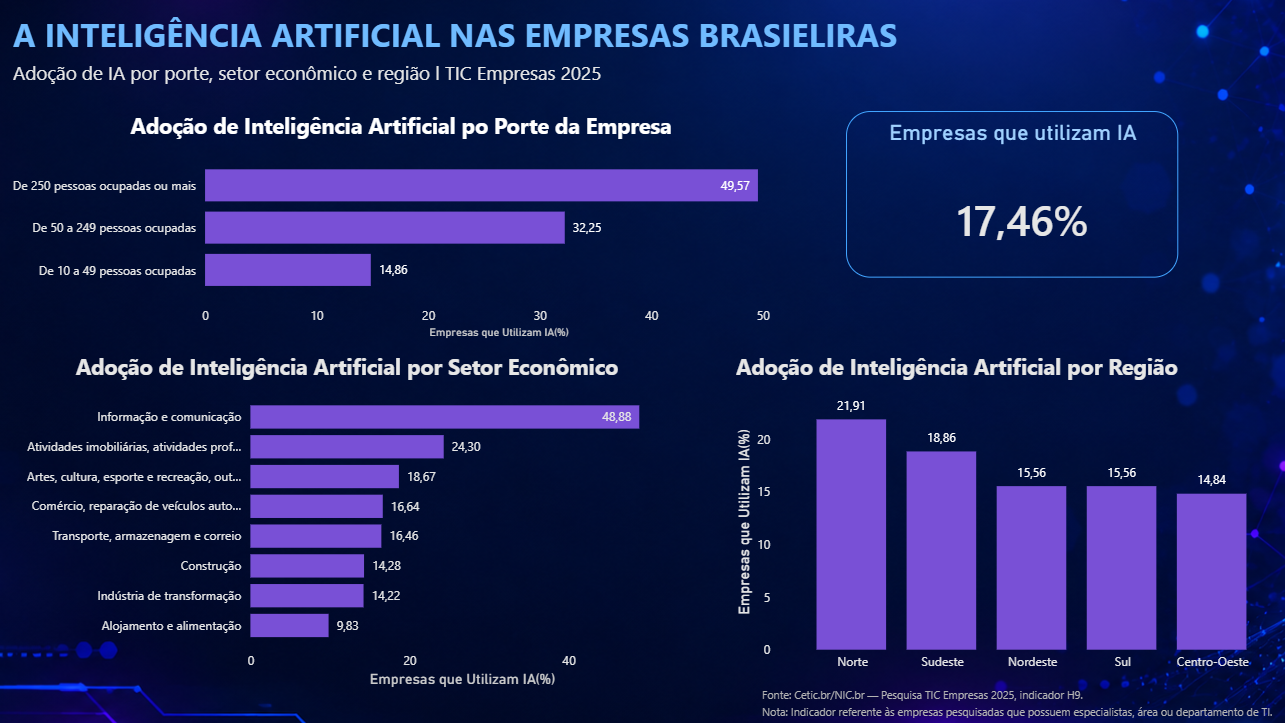

The dashboard page shown, as its layout file describes it:
{"tool":"powerbi","page":{"name":"Adoção de IA","canvas":[1280,720],"ordinal":0},"visuals":[{"type":"textbox","box":[10.9,6.9,965.3,65.3],"z":0,"group":"g1"},{"type":"clusteredBarChart","title":"Adoção de Inteligência Artificial po Porte da Empresa","fields":{"Category":["Adocao_IA_2025.Grupo"],"Y":["Max(Adocao_IA_2025.Utiliza_IA)"]},"box":[0,109.9,800,229.7],"z":0},{"type":"textbox","box":[10.9,54.4,786.1,34.7],"z":1000,"group":"g1"},{"type":"cardVisual","title":"Empresas que utilizam IA","fields":{"Data":["Adocao_IA_2025.Adocao IA KPI"]},"box":[840.6,109.9,328.7,165.3],"z":1000},{"type":"clusteredBarChart","title":"Adoção de Inteligência Artificial por Setor Econômico","fields":{"Category":["Adocao_IA_2025.Grupo"],"Y":["Sum(Adocao_IA_2025.Utiliza_IA)"]},"box":[10.9,348.5,671.3,336.6],"z":2000},{"type":"columnChart","title":"Adoção de Inteligência Artificial por Região","fields":{"Category":["Adocao_IA_2025.Grupo"],"Y":["Sum(Adocao_IA_2025.Utiliza_IA)"]},"box":[726.7,348.5,553.5,324.8],"z":3000},{"type":"group","id":"g1","title":"Grupo 1","box":[10.9,6.9,965.3,82.2],"z":4000},{"type":"textbox","box":[752.5,673.3,527.7,46.5],"z":5000}]}

Visuals, with their boxes in screenshot pixels (x1, y1, x2, y2), scaled from the page's 1280x720 canvas onto the 1285x723 screenshot:
textbox: detection(11, 7, 980, 73)
"Adoção de Inteligência Artificial po Porte da Empresa" clusteredBarChart: detection(0, 110, 803, 341)
textbox: detection(11, 55, 800, 89)
"Empresas que utilizam IA" cardVisual: detection(844, 110, 1174, 276)
"Adoção de Inteligência Artificial por Setor Econômico" clusteredBarChart: detection(11, 350, 685, 688)
"Adoção de Inteligência Artificial por Região" columnChart: detection(730, 350, 1284, 676)
"Grupo 1" group: detection(11, 7, 980, 89)
textbox: detection(755, 676, 1284, 722)
